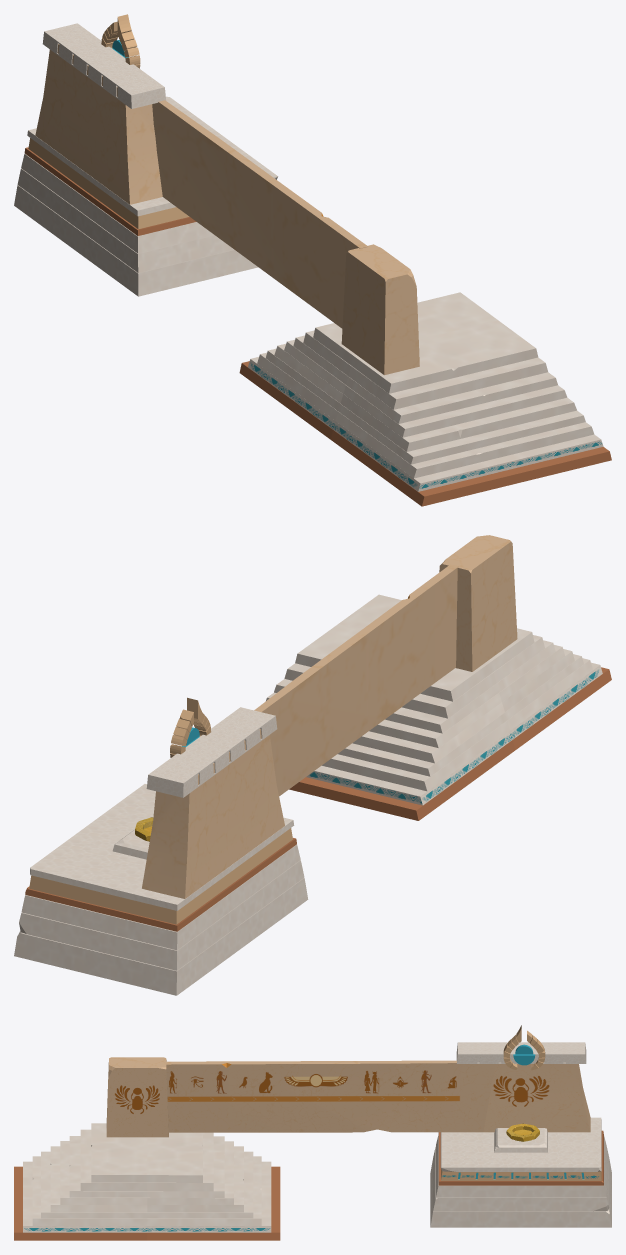
The model's file is pilleken (3).fbx.
3 renders of one model, top to bottom at view 1: azimuth 30°, elevation 25°; view 2: azimuth 150°, elevation 25°; view 3: azimuth 270°, elevation 25°, orthographic. The views are drawn at different scales.
Visible parts, largest first — view 1: Cube.017, Cube.036; view 2: Cube.017, Cube.036; view 3: Cube.017, Cube.036.
Part boxes in pixels (x1,y1,x2,y2): Cube.017: [14, 14, 611, 506]; Cube.036: [152, 100, 368, 328]; Cube.017: [14, 535, 611, 995]; Cube.036: [254, 564, 458, 796]; Cube.017: [14, 1025, 611, 1240]; Cube.036: [164, 1060, 495, 1132].
Size of the model in its own units: 4609 by 5197 by 17185.
